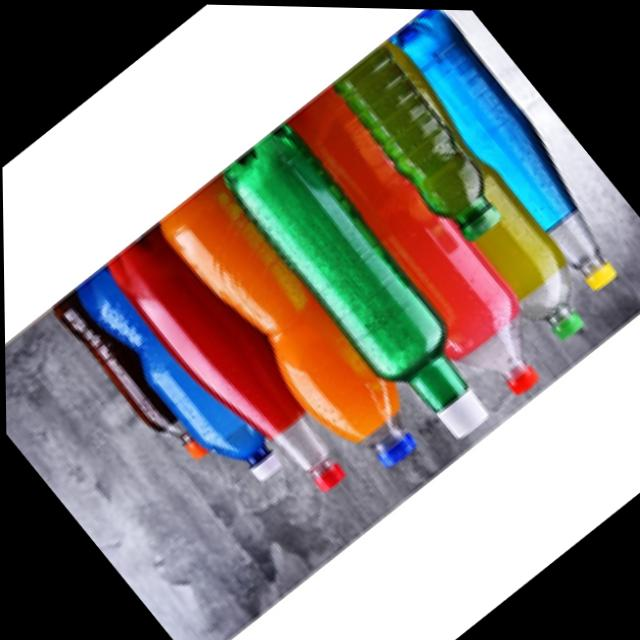plastic_soda_bottles: (218, 123, 507, 452), (270, 79, 558, 407), (150, 171, 430, 487), (377, 7, 640, 305), (68, 256, 284, 502), (424, 148, 610, 353), (333, 43, 516, 248), (50, 282, 211, 467)
